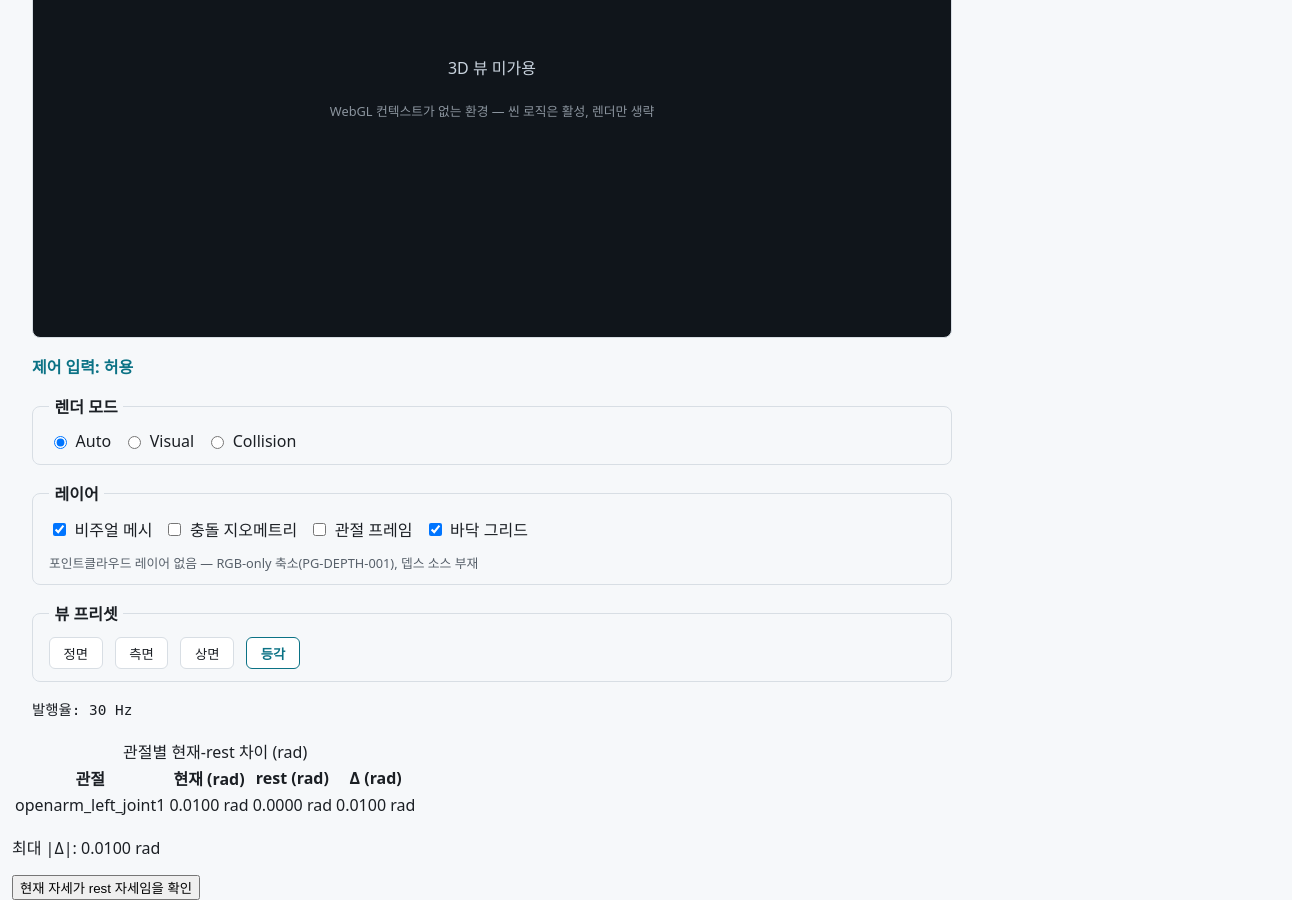
Scenario: CG-G-S02c re-zero forces all four steps › exposes only the current step's control, in order
The width and height of the screenshot is (1292, 900).
(page scrolled)
Click the button "현재 자세가 rest 자세임을 확인". click: (106, 888)
box: x1=12 y1=875 x2=200 y2=899
(page scrolled)
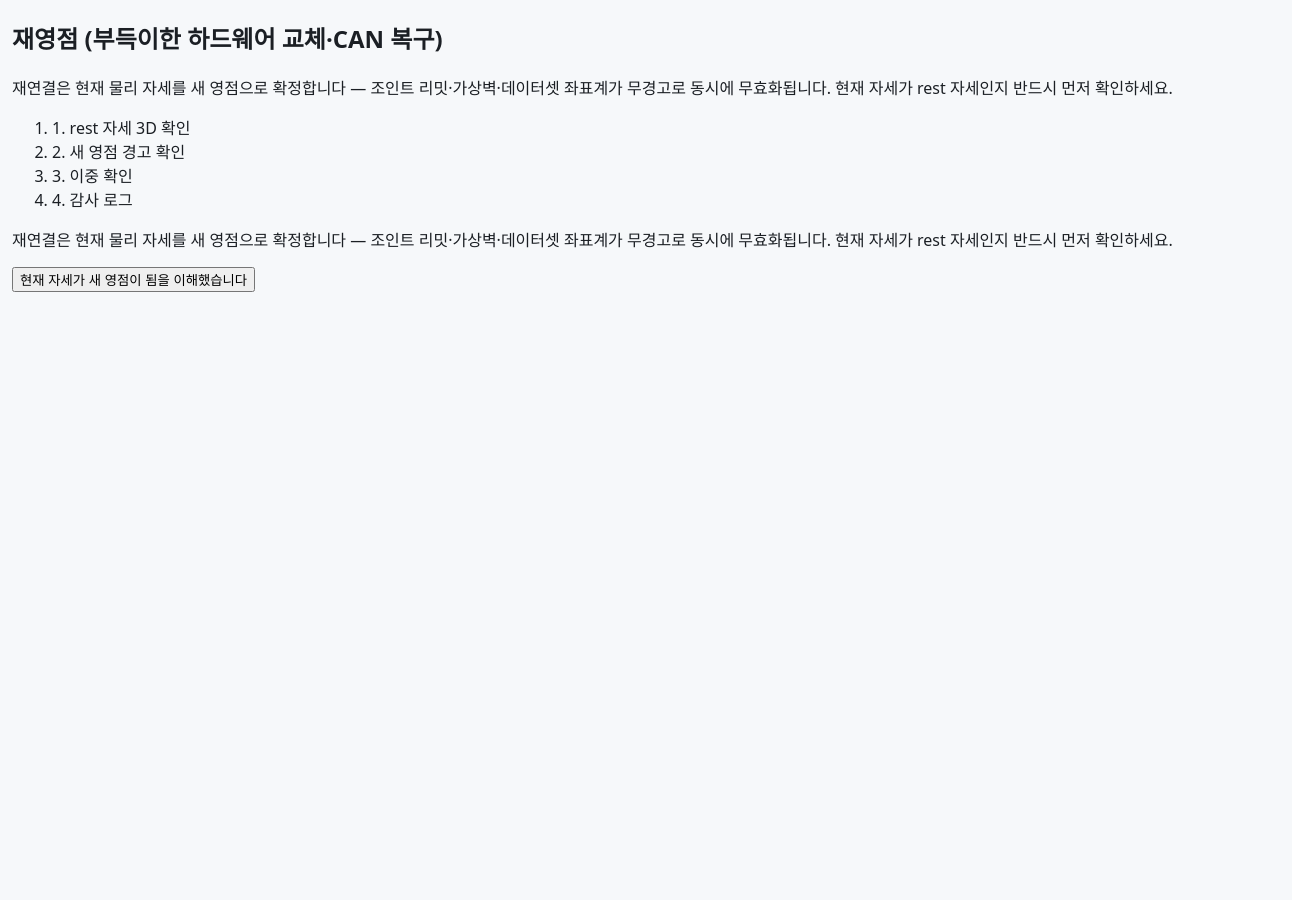
Check: the button "현재 자세가 새 영점이 됨을 이해했습니다" is shown, box x1=12 y1=267 x2=255 y2=292
